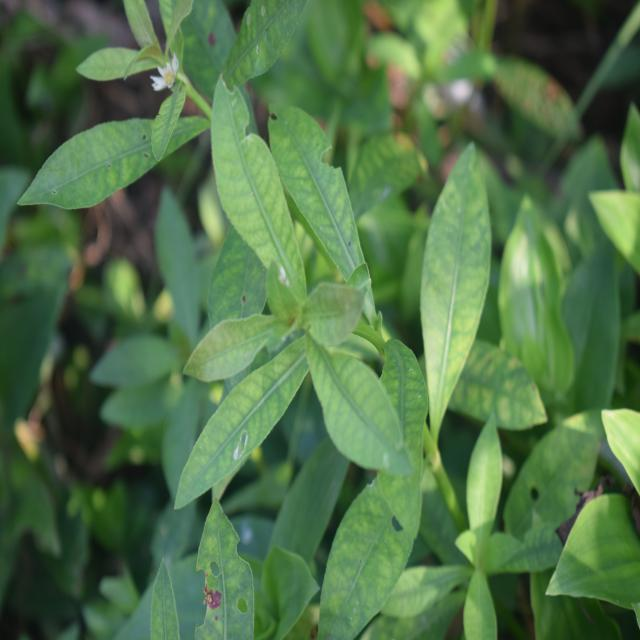Alligatorweed: (164, 75, 470, 513)
